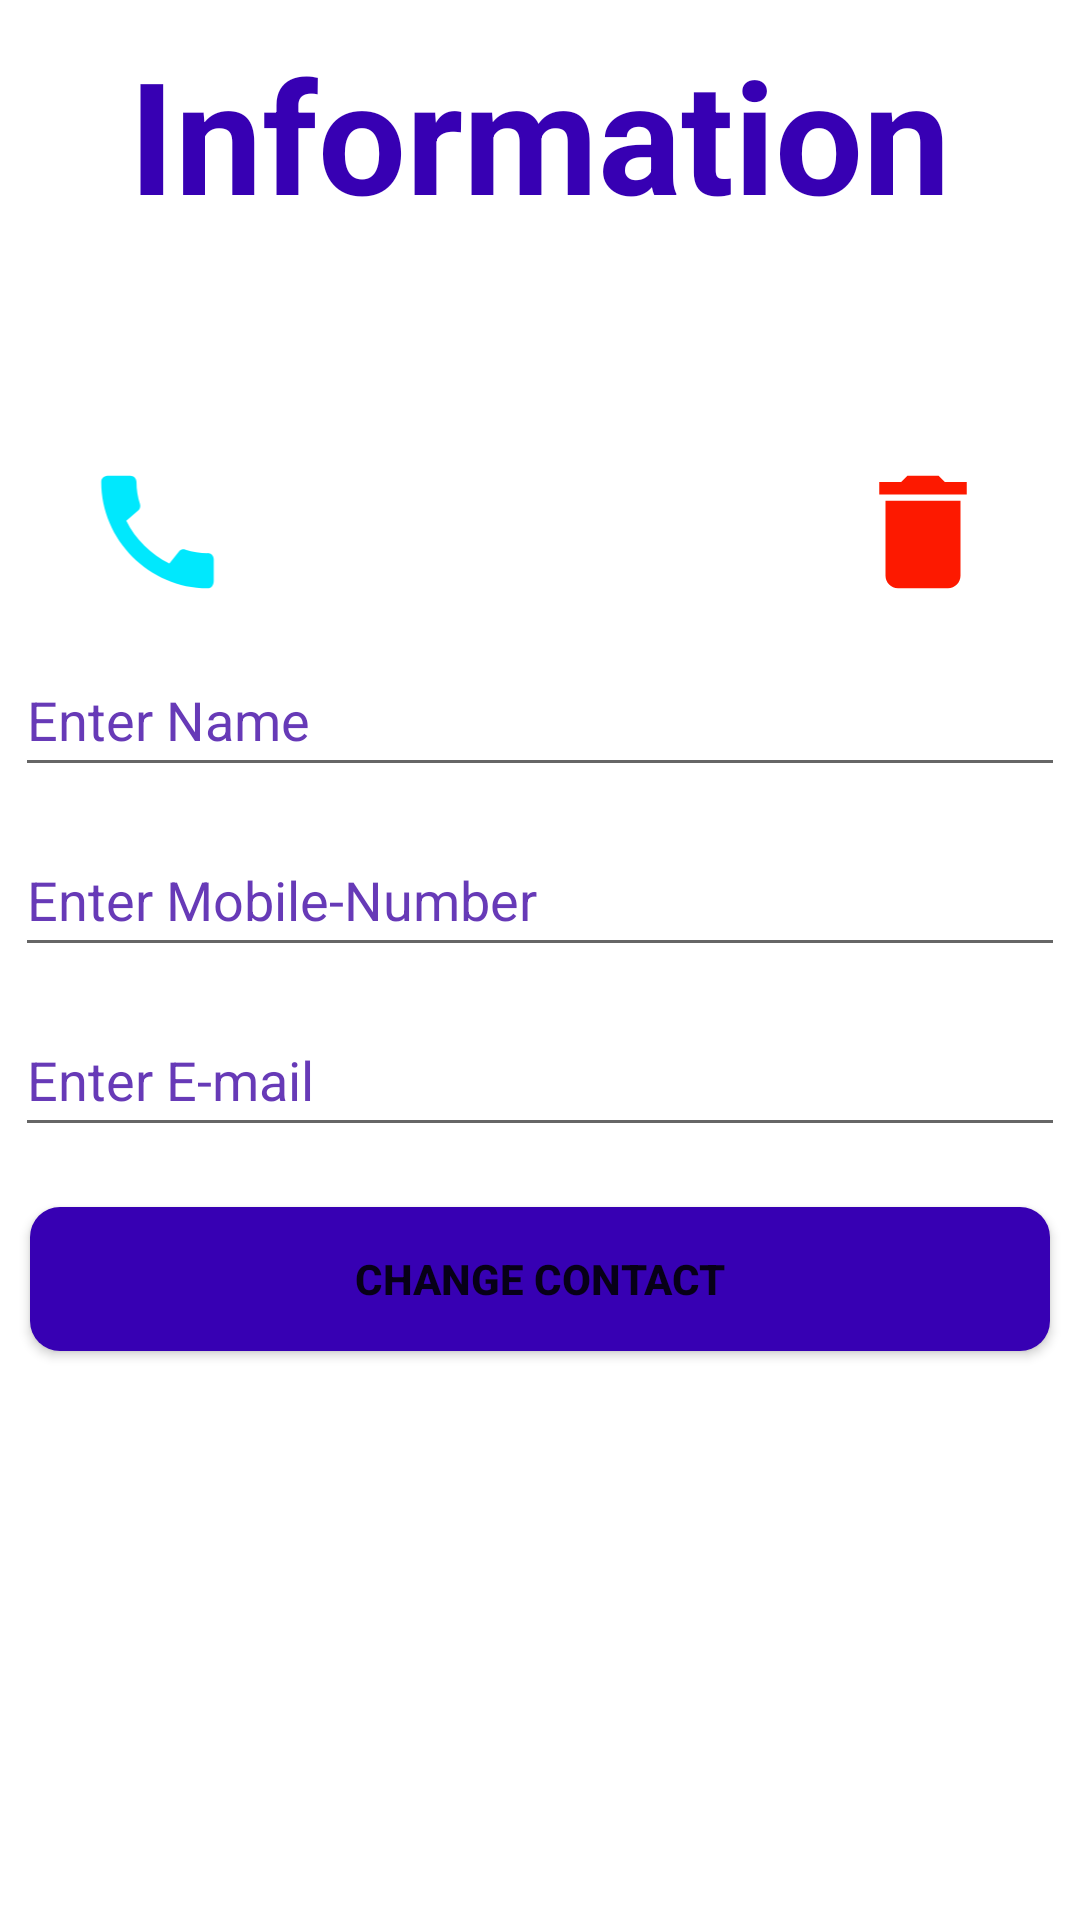

Icons on this 1080px×1920px Android screen, each with its box as [x1, y1, x2, y2]:
call: [100, 475, 215, 589]
delete: [879, 475, 967, 589]
